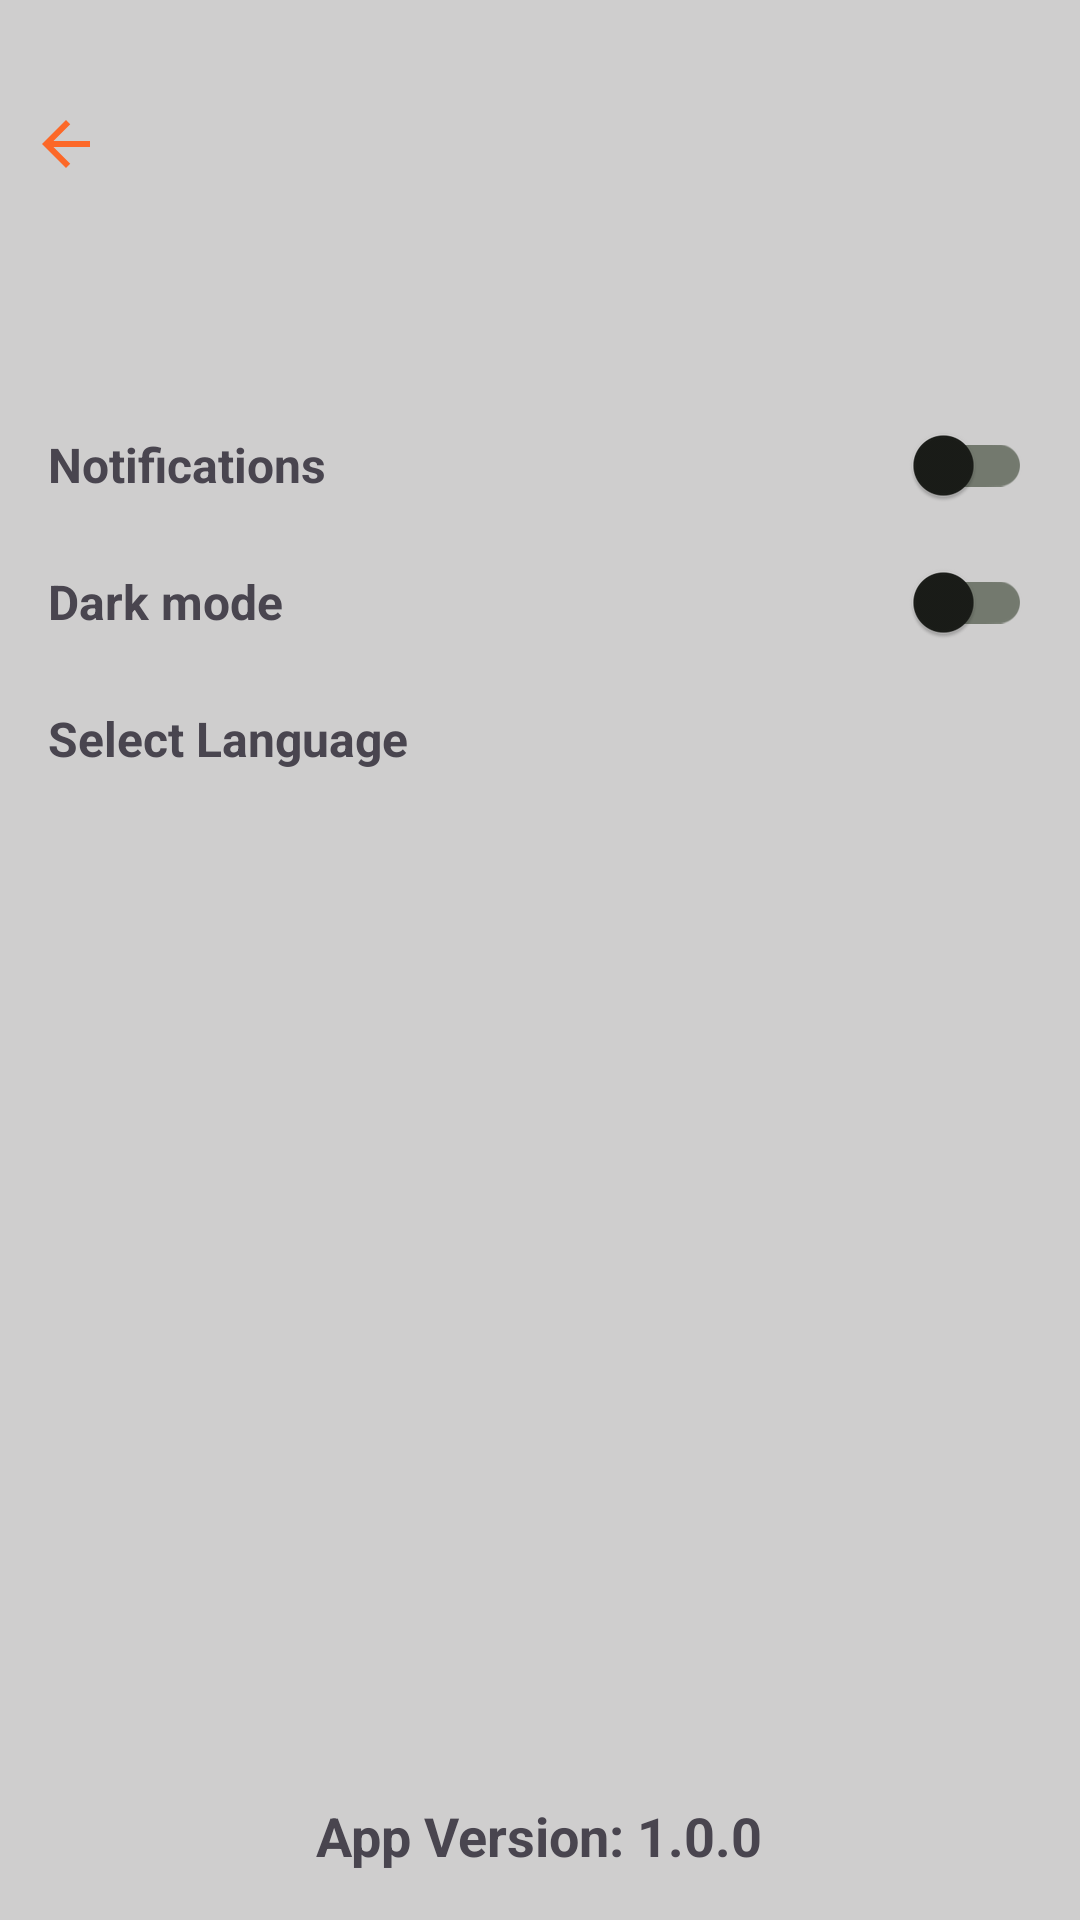

Screen size 1080 × 1920. Icon name, then its box in pixels as (x1, y1, x2, y2):
back: (42, 120, 90, 168)
